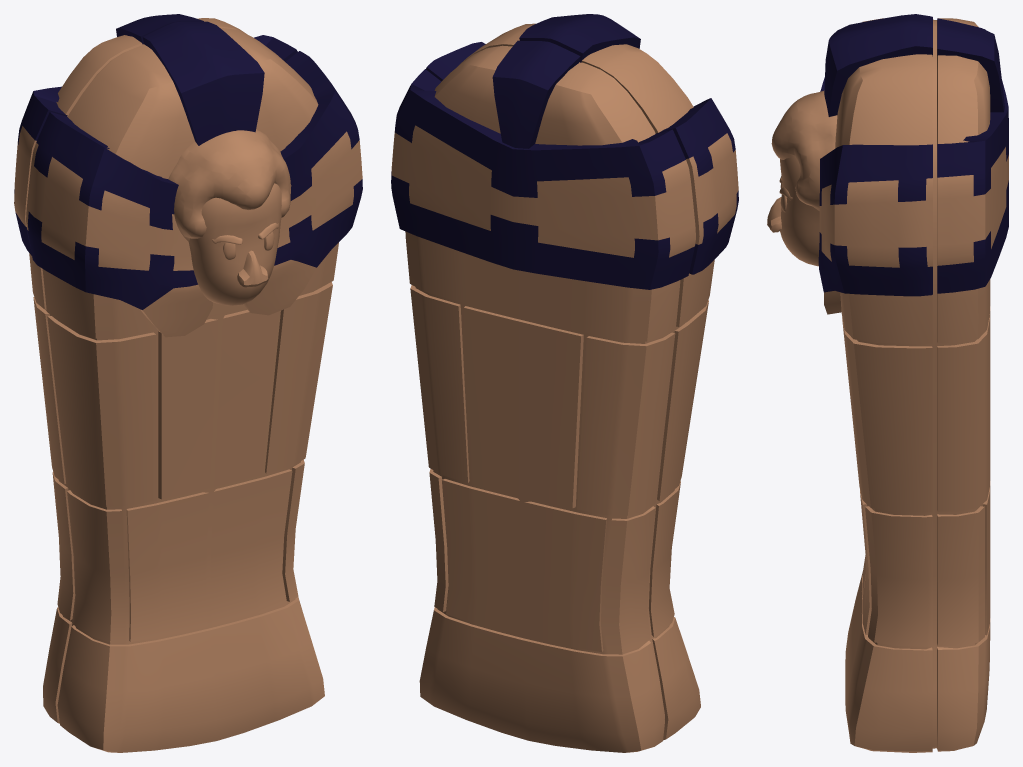
File: AnubisSarkoChar.fbx
3 renders of one model, left to right at view 1: azimuth 30°, elevation 25°; view 2: azimuth 150°, elevation 25°; view 3: azimuth 270°, elevation 25°, orthographic.
Parts seen in each view (by area): view 1: AnubisSarkoFront, AnubisSarkoBack; view 2: AnubisSarkoBack, AnubisSarkoFront; view 3: AnubisSarkoFront, AnubisSarkoBack.
Part boxes in pixels (x1=…): AnubisSarkoFront: x1=26, y1=21, x2=362, y2=752; AnubisSarkoBack: x1=14, y1=14, x2=297, y2=723; AnubisSarkoBack: x1=391, y1=40, x2=695, y2=752; AnubisSarkoFront: x1=426, y1=14, x2=738, y2=740; AnubisSarkoFront: x1=767, y1=14, x2=934, y2=752; AnubisSarkoBack: x1=934, y1=18, x2=1008, y2=751.
Size of the model in its own units: 103 by 228 by 71.86.
